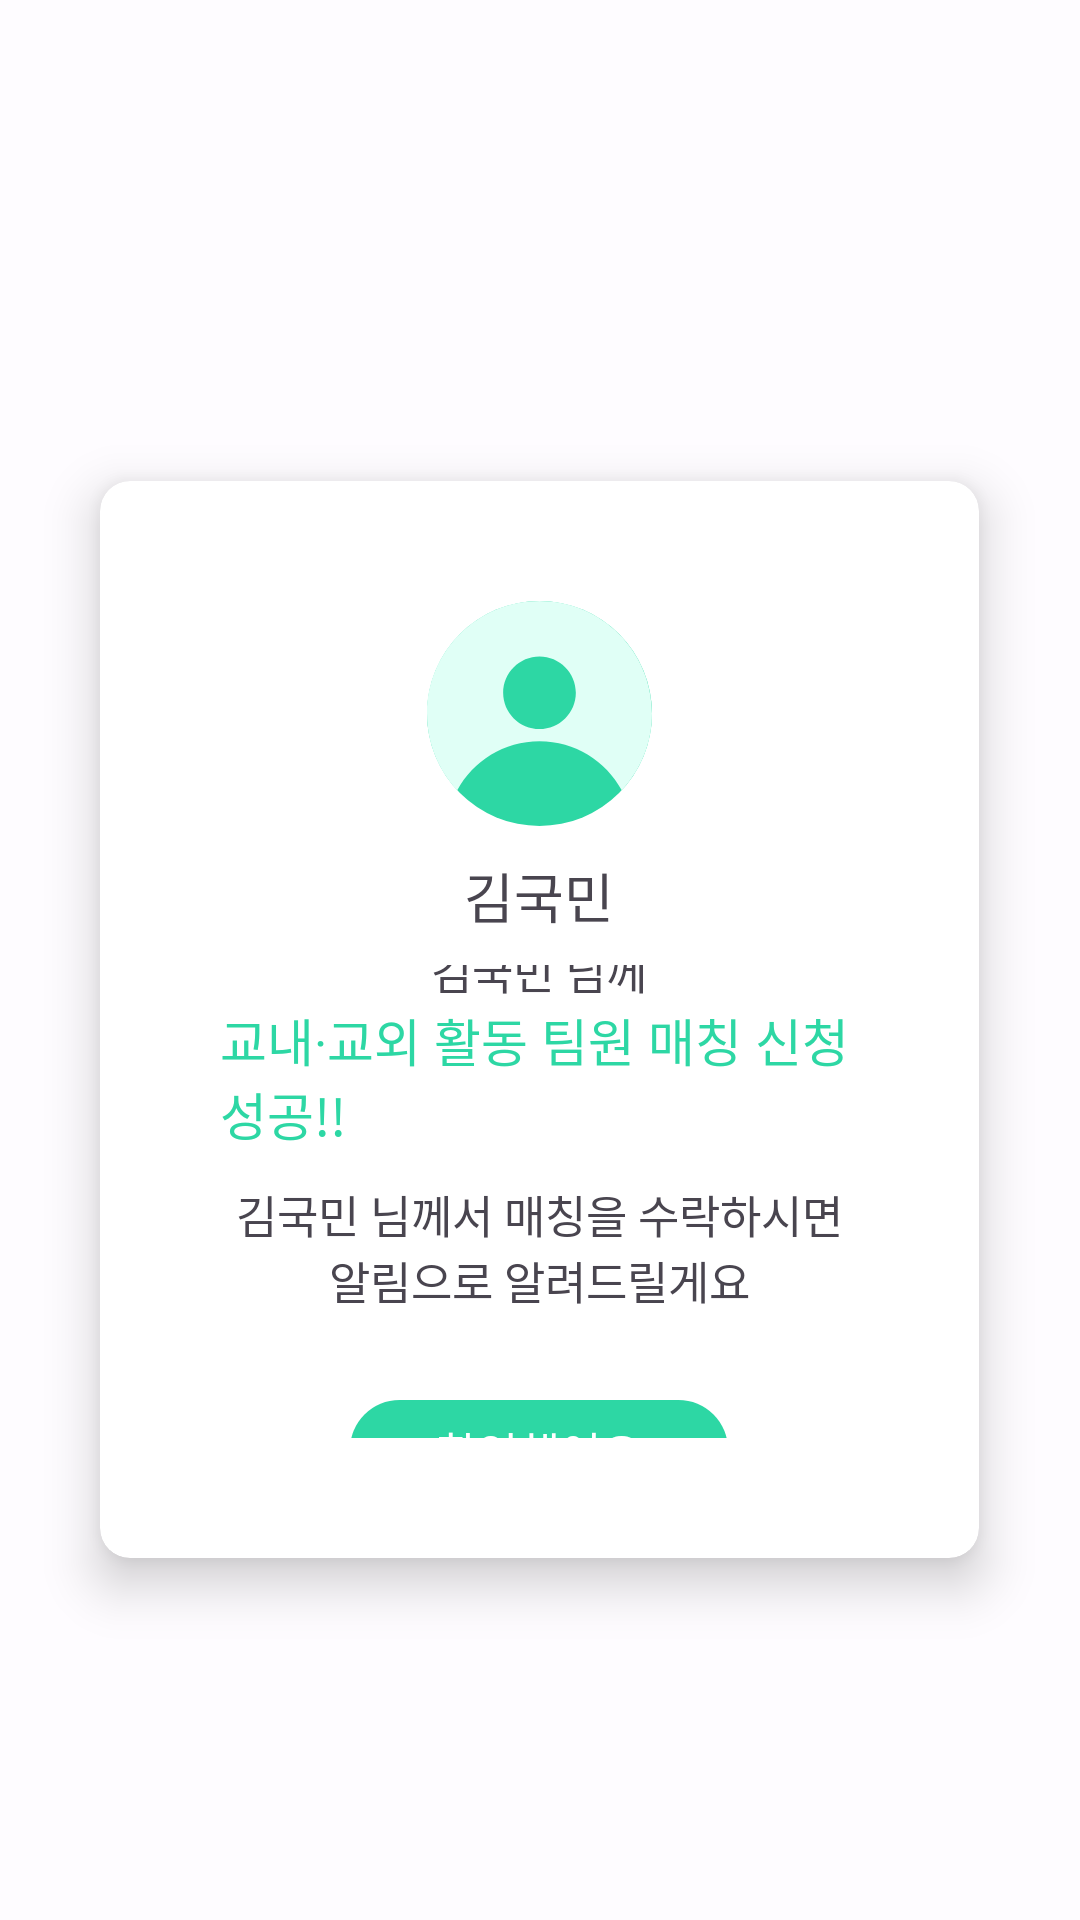

Screen size 1080px x 1920px. Icon name, then its box in pixels as (x1, y1, x2, y2):
profile reverse: (427, 601, 652, 826)
